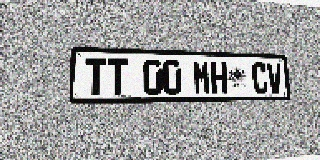0: (143, 59, 162, 95), (162, 60, 181, 95)
C: (252, 62, 268, 94)
H: (210, 61, 228, 94)
M: (193, 61, 211, 94)
T: (85, 58, 107, 96), (107, 58, 127, 95)
V: (267, 62, 283, 94)
